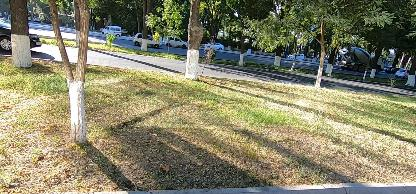tree: (44, 0, 104, 144), (183, 0, 209, 84), (7, 0, 35, 71)
